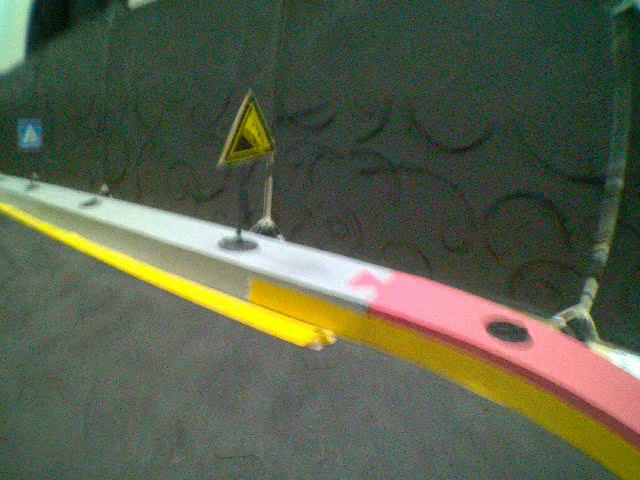crossing: (18, 117, 43, 150)
fast: (213, 88, 283, 166)
